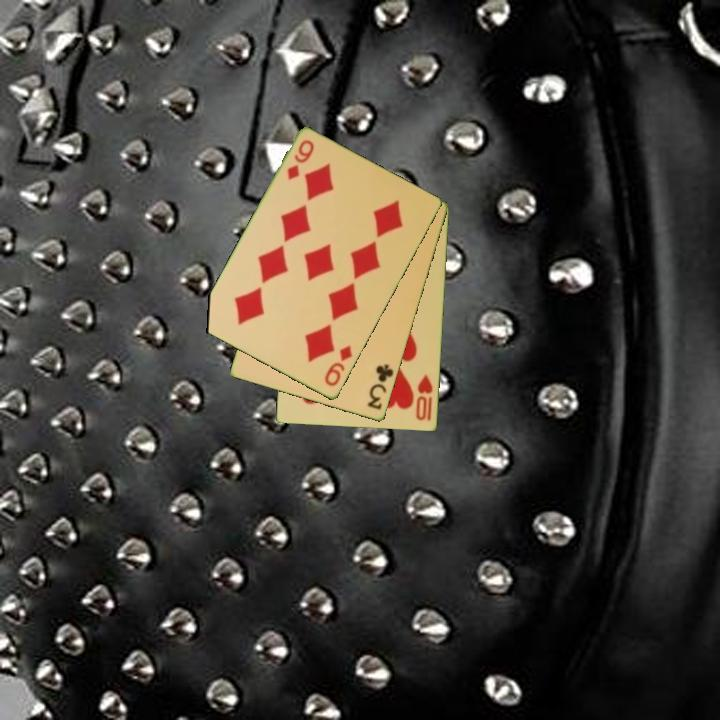10h: (413, 371, 436, 424)
3c: (364, 361, 397, 413)
9d: (321, 342, 355, 390), (283, 137, 317, 183)
